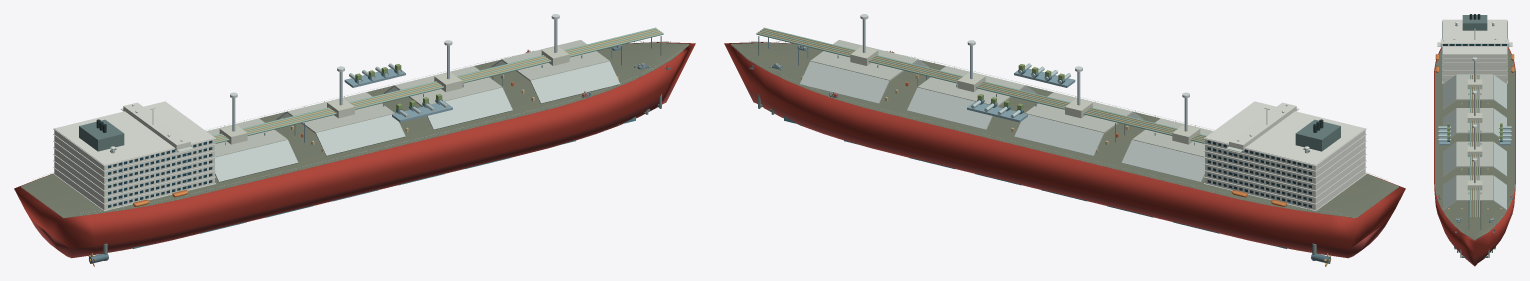
File: christophe-de-margerie.lod0.glb
The picture shows the model from 3 angles, left to right: view 1: azimuth 30°, elevation 25°; view 2: azimuth 150°, elevation 25°; view 3: azimuth 270°, elevation 25°; orthographic projection. The views are drawn at different scales.
Visible parts, largest first — view 1: christophe-de-margerie.structure.hull.outer-hull-shell.1, christophe-de-margerie.structure.decks.main-strength-deck.1, christophe-de-margerie.structure.hull.antifouling-underwater, christophe-de-margerie.accommodation.superstructure.deck-7-e, christophe-de-margerie.cargo.cargo-tank-4.tank-4-sloping-ins, christophe-de-margerie.cargo.cargo-tank-2.tank-2-sloping-ins, christophe-de-margerie.cargo.cargo-tank-1.tank-1-sloping-ins, christophe-de-margerie.cargo.cargo-tank-3.tank-3-sloping-ins, christophe-de-margerie.cargo.cargo-tank-4.insulated-tank-dom, christophe-de-margerie.cargo.cargo-tank-2.insulated-tank-dom, christophe-de-margerie.cargo.cargo-tank-3.insulated-tank-dom, christophe-de-margerie.cargo.cargo-tank-1.insulated-tank-dom (+14 smaller); view 2: christophe-de-margerie.structure.hull.outer-hull-shell.1, christophe-de-margerie.structure.decks.main-strength-deck.1, christophe-de-margerie.structure.hull.antifouling-underwater, christophe-de-margerie.accommodation.superstructure.deck-7-e, christophe-de-margerie.cargo.cargo-tank-4.tank-4-sloping-ins, christophe-de-margerie.cargo.cargo-tank-2.tank-2-sloping-ins, christophe-de-margerie.cargo.cargo-tank-1.tank-1-sloping-ins, christophe-de-margerie.cargo.cargo-tank-3.tank-3-sloping-ins, christophe-de-margerie.cargo.cargo-tank-4.insulated-tank-dom, christophe-de-margerie.cargo.cargo-tank-2.insulated-tank-dom, christophe-de-margerie.cargo.cargo-tank-3.insulated-tank-dom, christophe-de-margerie.cargo.cargo-tank-1.insulated-tank-dom (+14 smaller); view 3: christophe-de-margerie.structure.decks.main-strength-deck.1, christophe-de-margerie.accommodation.superstructure.deck-7-e, christophe-de-margerie.structure.hull.outer-hull-shell.1, christophe-de-margerie.cargo.cargo-tank-1.insulated-tank-dom, christophe-de-margerie.cargo.cargo-tank-3.insulated-tank-dom, christophe-de-margerie.cargo.cargo-tank-4.insulated-tank-dom, christophe-de-margerie.cargo.cargo-tank-2.insulated-tank-dom, christophe-de-margerie.cargo.cargo-tank-4.tank-4-sloping-ins (×2), christophe-de-margerie.cargo.cargo-tank-1.tank-1-sloping-ins (×2), christophe-de-margerie.cargo.cargo-tank-3.tank-3-sloping-ins (×2), christophe-de-margerie.cargo.cargo-tank-2.tank-2-sloping-ins (×2), christophe-de-margerie.navigation.bridge.wheelhouse.1 (+23 smaller).
Part boxes in pixels (x1,y1,x2,y2): christophe-de-margerie.structure.hull.outer-hull-shell.1: (14,42,695,249); christophe-de-margerie.structure.decks.main-strength-deck.1: (21,42,689,218); christophe-de-margerie.structure.hull.antifouling-underwater: (32,83,675,258); christophe-de-margerie.accommodation.superstructure.deck-7-e: (54,101,214,170); christophe-de-margerie.cargo.cargo-tank-4.tank-4-sloping-ins: (530,61,619,103); christophe-de-margerie.cargo.cargo-tank-2.tank-2-sloping-ins: (315,114,405,156); christophe-de-margerie.cargo.cargo-tank-1.tank-1-sloping-ins: (215,140,298,182); christophe-de-margerie.cargo.cargo-tank-3.tank-3-sloping-ins: (427,87,512,129); christophe-de-margerie.cargo.cargo-tank-4.insulated-tank-dom: (501,40,609,80); christophe-de-margerie.cargo.cargo-tank-2.insulated-tank-dom: (287,92,394,133); christophe-de-margerie.cargo.cargo-tank-3.insulated-tank-dom: (394,66,501,106); christophe-de-margerie.cargo.cargo-tank-1.insulated-tank-dom: (206,118,287,157); christophe-de-margerie.structure.hull.outer-hull-shell.1: (724,42,1405,249); christophe-de-margerie.structure.decks.main-strength-deck.1: (730,42,1398,218); christophe-de-margerie.structure.hull.antifouling-underwater: (744,83,1387,258); christophe-de-margerie.accommodation.superstructure.deck-7-e: (1205,101,1365,170); christophe-de-margerie.cargo.cargo-tank-4.tank-4-sloping-ins: (800,61,889,103); christophe-de-margerie.cargo.cargo-tank-2.tank-2-sloping-ins: (1014,114,1104,156); christophe-de-margerie.cargo.cargo-tank-1.tank-1-sloping-ins: (1121,140,1204,182); christophe-de-margerie.cargo.cargo-tank-3.tank-3-sloping-ins: (907,87,992,129); christophe-de-margerie.cargo.cargo-tank-4.insulated-tank-dom: (810,40,918,80); christophe-de-margerie.cargo.cargo-tank-2.insulated-tank-dom: (1025,92,1132,133); christophe-de-margerie.cargo.cargo-tank-3.insulated-tank-dom: (918,66,1025,106); christophe-de-margerie.cargo.cargo-tank-1.insulated-tank-dom: (1132,118,1213,157); christophe-de-margerie.structure.decks.main-strength-deck.1: (1435,49,1514,240); christophe-de-margerie.accommodation.superstructure.deck-7-e: (1443,19,1506,57); christophe-de-margerie.structure.hull.outer-hull-shell.1: (1434,47,1515,258); christophe-de-margerie.cargo.cargo-tank-1.insulated-tank-dom: (1456,74,1493,100); christophe-de-margerie.cargo.cargo-tank-3.insulated-tank-dom: (1456,141,1493,167); christophe-de-margerie.cargo.cargo-tank-4.insulated-tank-dom: (1456,175,1493,200); christophe-de-margerie.cargo.cargo-tank-2.insulated-tank-dom: (1456,108,1493,133); christophe-de-margerie.cargo.cargo-tank-4.tank-4-sloping-ins (×2): (1443,175,1506,209); christophe-de-margerie.cargo.cargo-tank-1.tank-1-sloping-ins (×2): (1443,74,1506,109); christophe-de-margerie.cargo.cargo-tank-3.tank-3-sloping-ins (×2): (1443,142,1506,176); christophe-de-margerie.cargo.cargo-tank-2.tank-2-sloping-ins (×2): (1443,108,1506,137); christophe-de-margerie.navigation.bridge.wheelhouse.1: (1440,39,1509,47).
Size of the model in its own units: 299 by 51.66 by 50.
